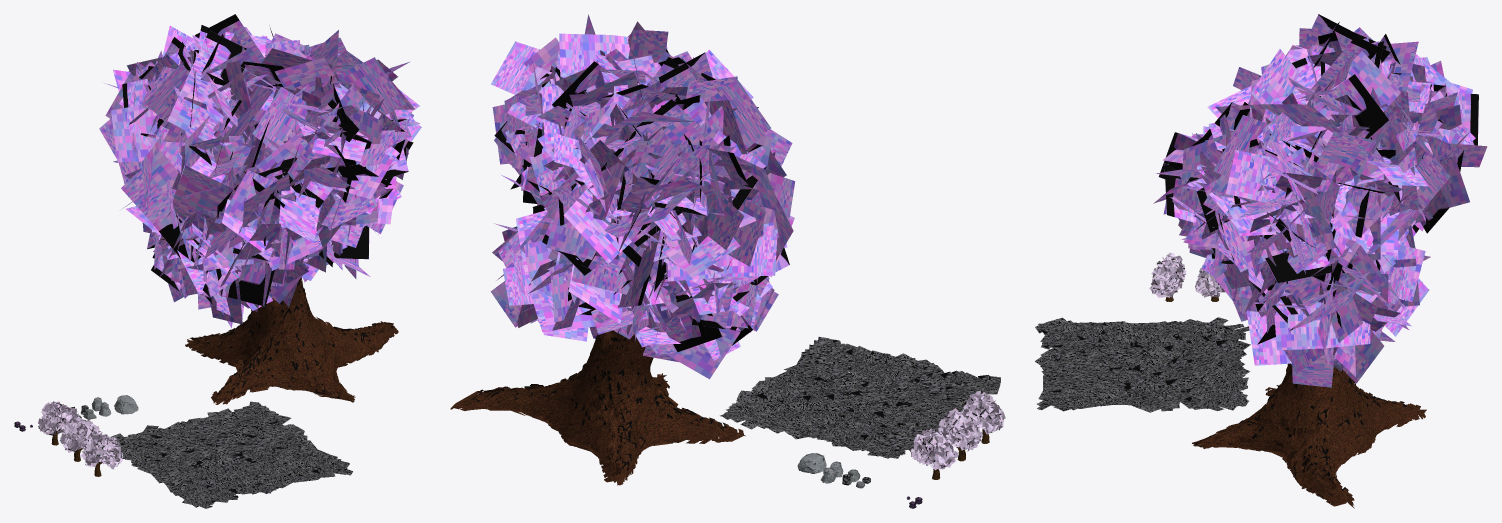
The model's file is FBX-components.fbx.
3 renders of one model, left to right at view 1: azimuth 30°, elevation 25°; view 2: azimuth 150°, elevation 25°; view 3: azimuth 270°, elevation 25°, orthographic. The views are drawn at different scales.
Parts seen in each view (by area): view 1: Leaves, Ground, Trunk, TreeLeaves.002, TreeLeaves, TreeLeaves.001; view 2: Leaves, Ground, Trunk, TreeLeaves, TreeLeaves.001, TreeLeaves.002; view 3: Leaves, Ground, Trunk, TreeLeaves.002, TreeLeaves.001.
Boxes of the visible parts, box(x1,y1,x2,y2) form: Leaves: box(99, 14, 421, 328); Ground: box(110, 401, 352, 508); Trunk: box(185, 277, 398, 404); TreeLeaves.002: box(80, 433, 123, 469); TreeLeaves: box(38, 401, 79, 435); TreeLeaves.001: box(60, 416, 102, 452); Leaves: box(490, 14, 795, 379); Ground: box(720, 337, 1000, 458); Trunk: box(450, 330, 745, 485); TreeLeaves: box(910, 428, 958, 470); TreeLeaves.001: box(936, 408, 983, 451); TreeLeaves.002: box(962, 390, 1005, 434); Leaves: box(1153, 14, 1487, 387); Ground: box(1035, 317, 1250, 412); Trunk: box(1192, 363, 1426, 508); TreeLeaves.002: box(1149, 252, 1186, 297); TreeLeaves.001: box(1195, 263, 1224, 297).
Size of the model in its own units: 13364 by 11361 by 11960.
21 materials, 21 textured.
